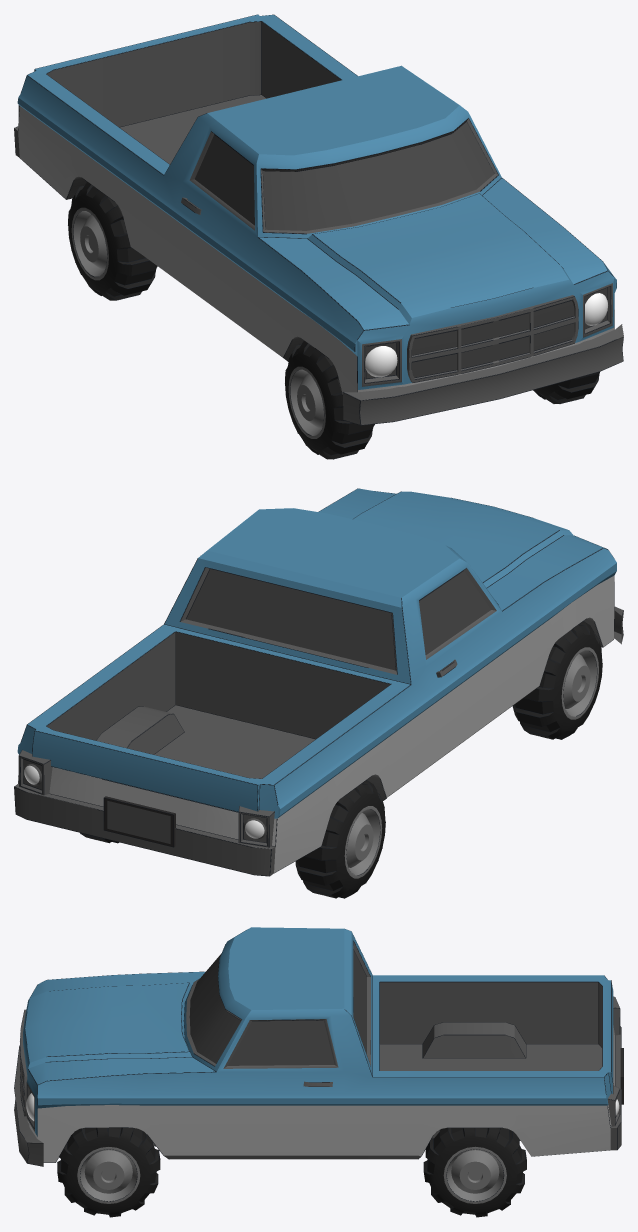
The model's file is vehicle_pickup.glb.
The picture shows the model from 3 angles, top to bottom: view 1: azimuth 30°, elevation 25°; view 2: azimuth 150°, elevation 25°; view 3: azimuth 270°, elevation 25°; orthographic projection. The views are drawn at different scales.
Parts seen in each view (by area): view 1: Pickup, Pickup_StructuralInk, BackWheels, FrontWheel_R, FrontWheel_L; view 2: Pickup, BackWheels, FrontWheel_R, Pickup_StructuralInk, BackWheels_StructuralInk; view 3: Pickup, BackWheels, FrontWheel_L, Pickup_StructuralInk, BackWheels_StructuralInk, FrontWheel_L_StructuralInk.
Part boxes in pixels (x1,y1,x2,y2): Pickup: (14, 14, 623, 424); Pickup_StructuralInk: (14, 14, 623, 425); BackWheels: (68, 182, 157, 300); FrontWheel_R: (285, 340, 374, 459); FrontWheel_L: (533, 372, 599, 403); Pickup: (14, 488, 623, 875); BackWheels: (80, 780, 385, 898); FrontWheel_R: (513, 621, 602, 739); Pickup_StructuralInk: (14, 488, 623, 876); BackWheels_StructuralInk: (80, 780, 382, 898); Pickup: (14, 927, 623, 1166); BackWheels: (424, 1128, 526, 1217); FrontWheel_L: (57, 1127, 160, 1217); Pickup_StructuralInk: (14, 931, 623, 1166); BackWheels_StructuralInk: (423, 1128, 525, 1215); FrontWheel_L_StructuralInk: (57, 1127, 159, 1217).
Size of the model in its own units: 2.31 by 1.85 by 5.18.
Materials: 4 (1 with a texture image).
